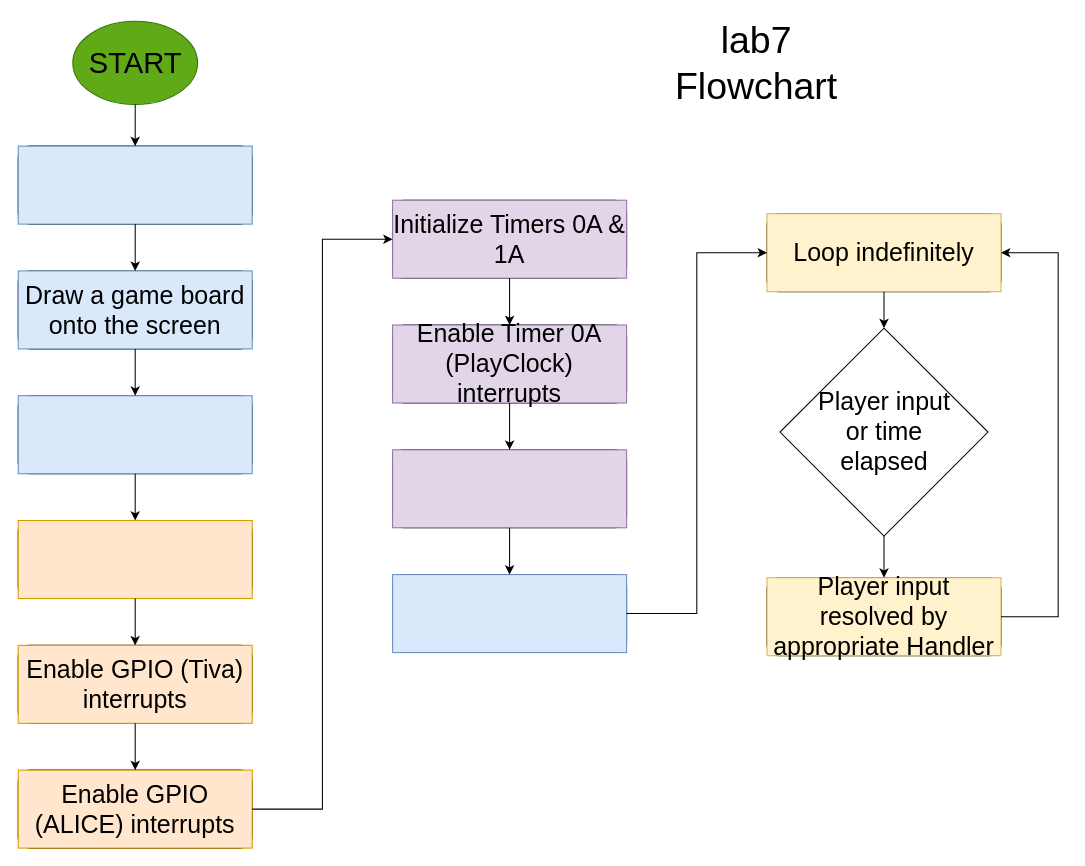
Image size: 1085x866. Some labels were removed from this diagram. The centre of each missing label's shape, as x and y in pixels:
"Draw the New Game Menu onto the screen" belongs at point 509,613.
"Enable Timer 1A (GameTic) interrupts" belongs at point 509,488.
"Enable UART0 interrupts" belongs at point 134,434.
"Initialize GPIO communication" belongs at point 134,559.
"Intialize UART0 communication" belongs at point 134,184.
